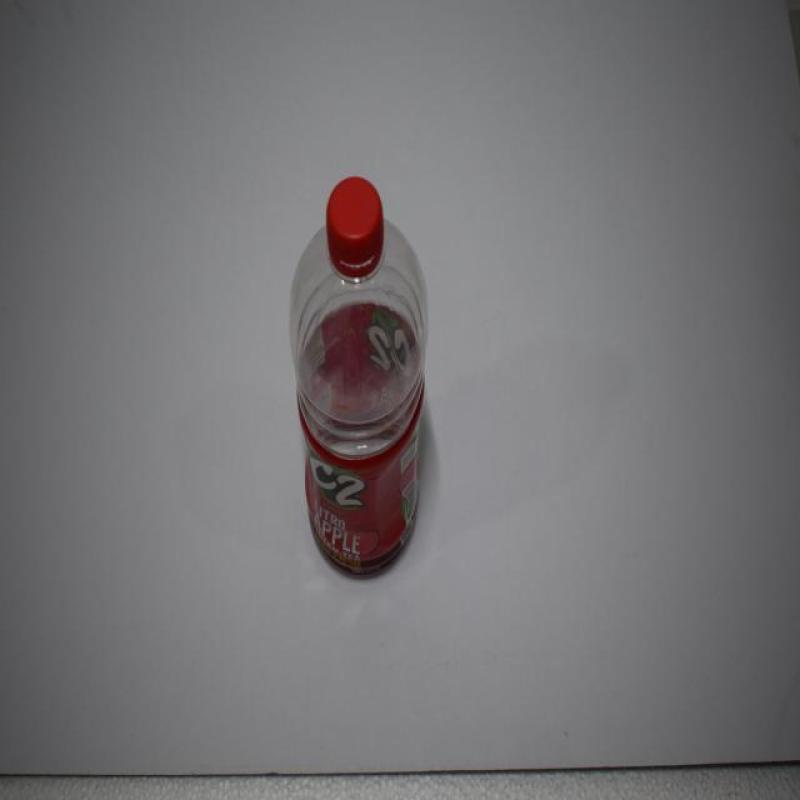botella: (288, 174, 428, 580)
